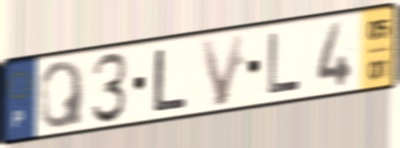3: (89, 50, 130, 126)
4: (314, 18, 356, 91)
L: (150, 46, 189, 115), (265, 29, 303, 98)
Q: (37, 58, 87, 132)
V: (197, 30, 248, 110)
